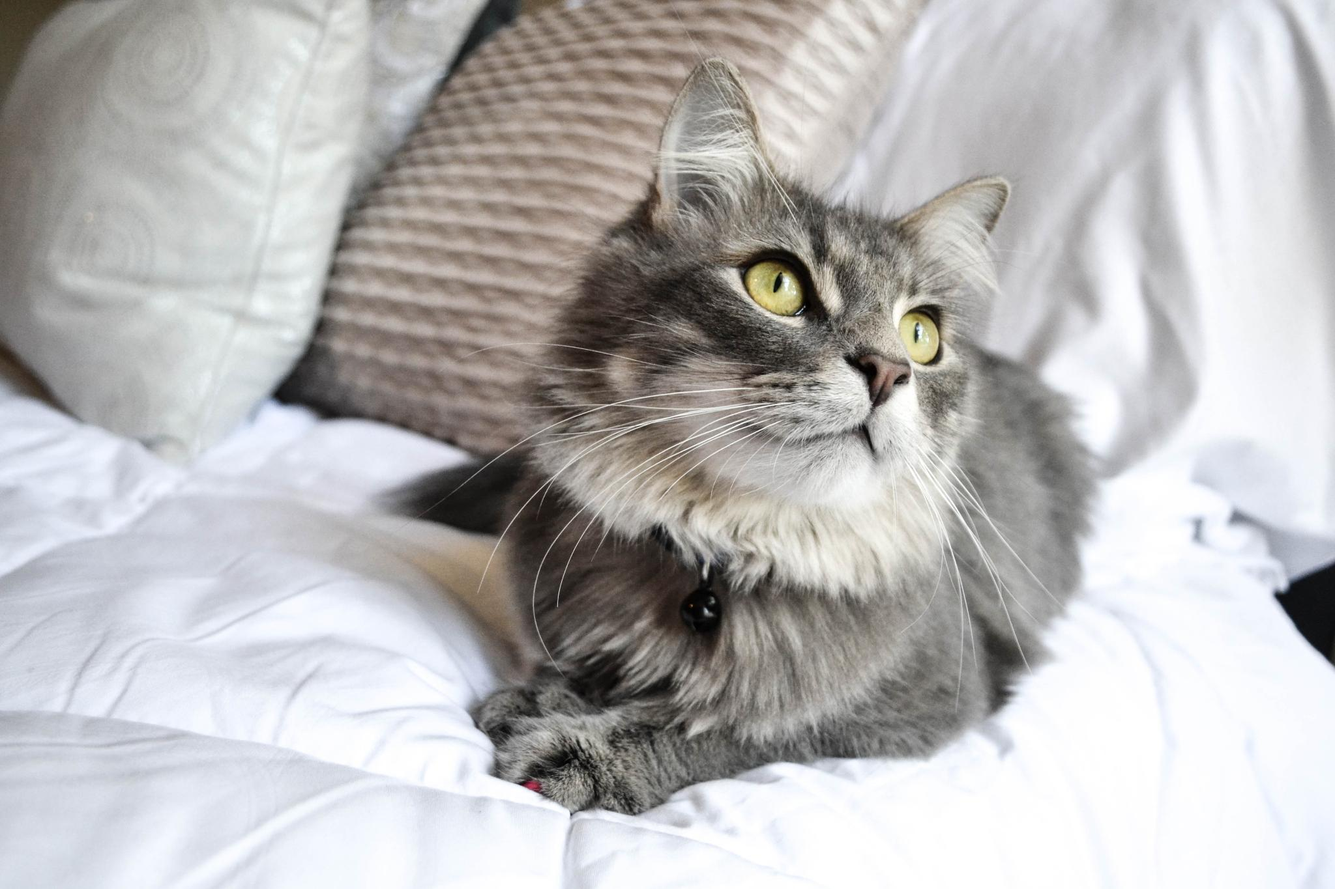cat: (371, 55, 1105, 817)
